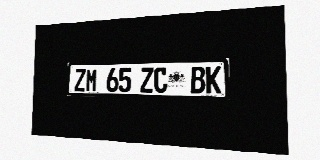5: (119, 68, 131, 92)
6: (106, 68, 119, 92)
B: (191, 66, 205, 93)
C: (154, 67, 167, 93)
K: (206, 66, 221, 94)
M: (86, 68, 98, 92)
Z: (140, 67, 153, 93), (74, 68, 86, 92)
